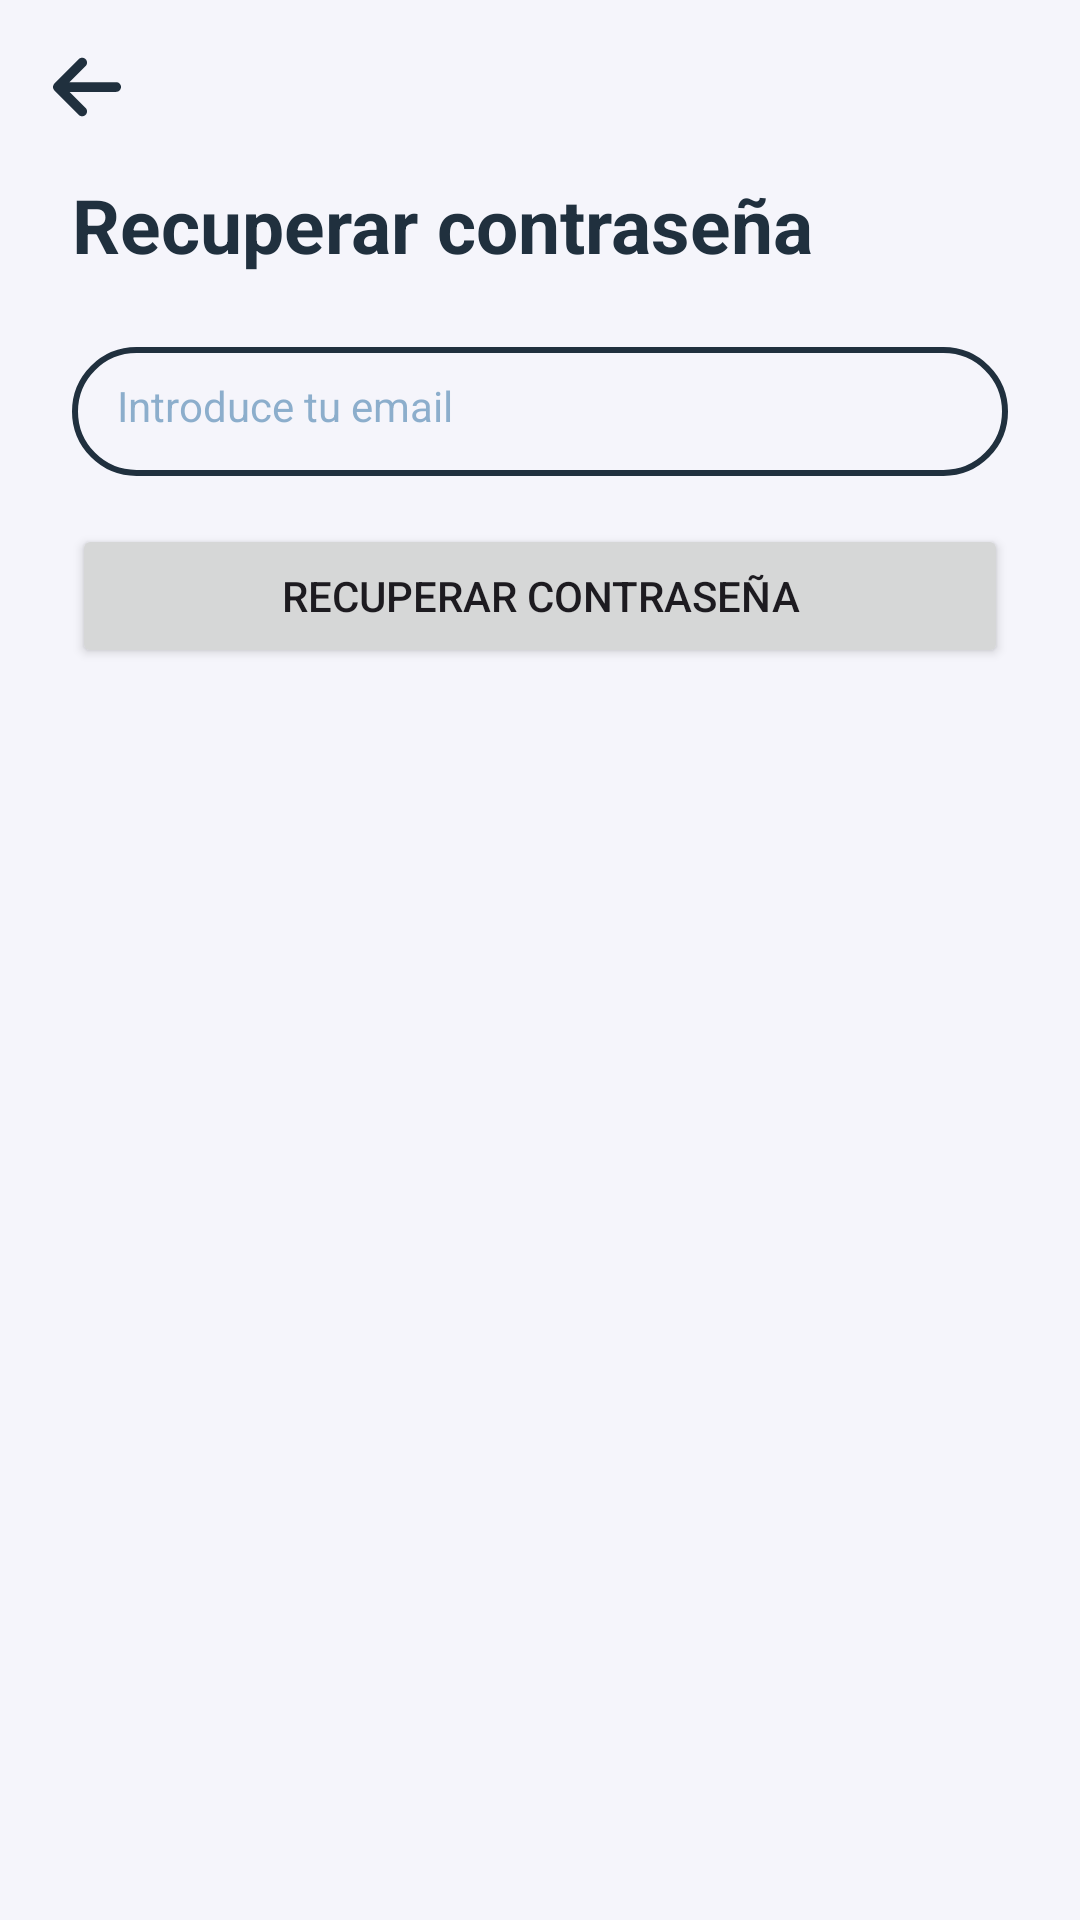

Named icons in this screenshot (1080 × 1920) and their centers, (x,y):
go back arrow: (87,87)
